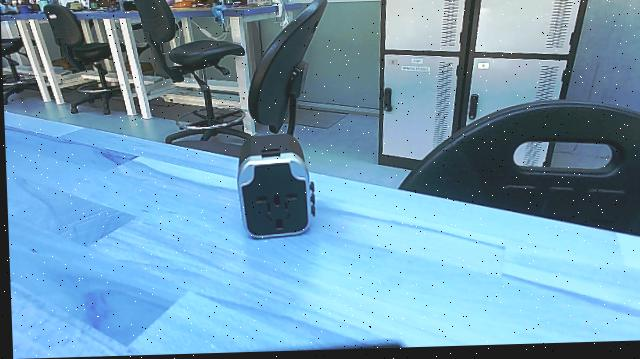adapter: (233, 132, 323, 241)
